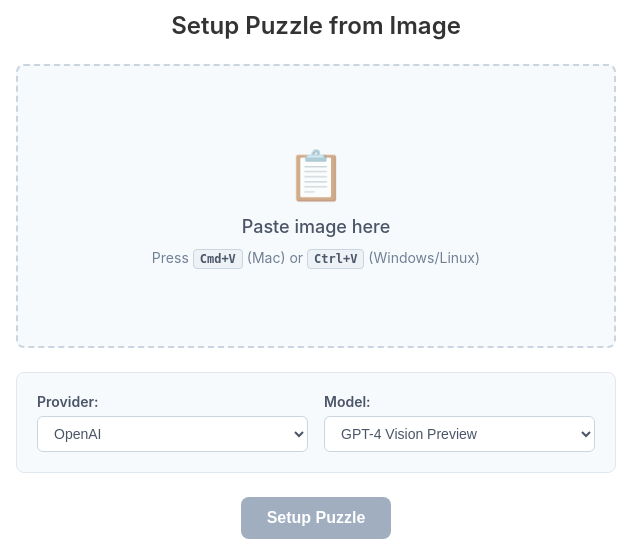
Test: ImagePuzzleSetup - Provider/Model Configuration › Model Dropdown Dynamic Population › updates model selection when provider changes
The width and height of the screenshot is (633, 556).
Expected: the dropdown named "LLM Model" shows "GPT-4 Vision Preview", 324,416 -> 595,452
// Change provider
Select "Simple Provider" in the dropdown named "LLM Provider" at (172, 434), box 37,416 -> 308,452
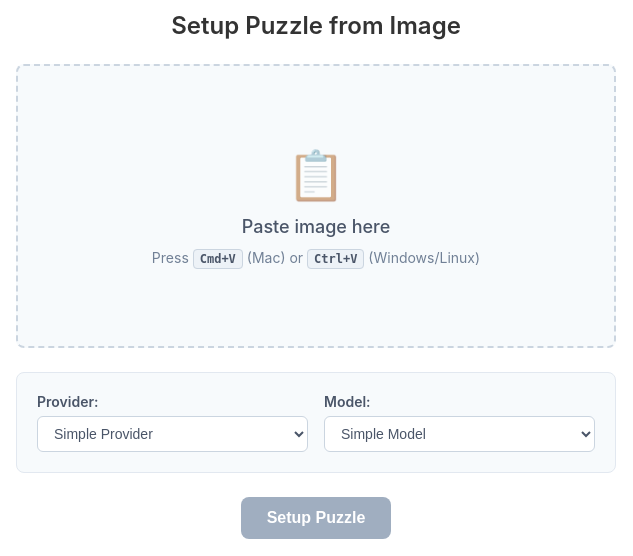
Expected: the dropdown named "LLM Model" shows "Simple Model", 324,416 -> 595,452
